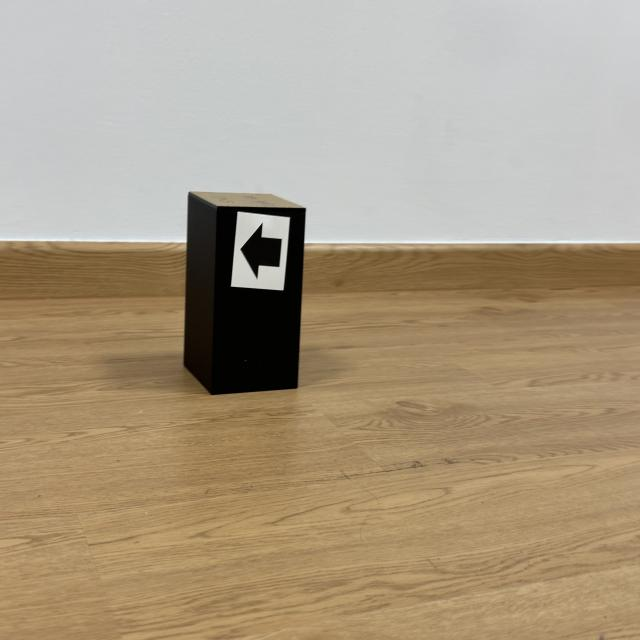LEFT: (241, 223, 281, 278)
